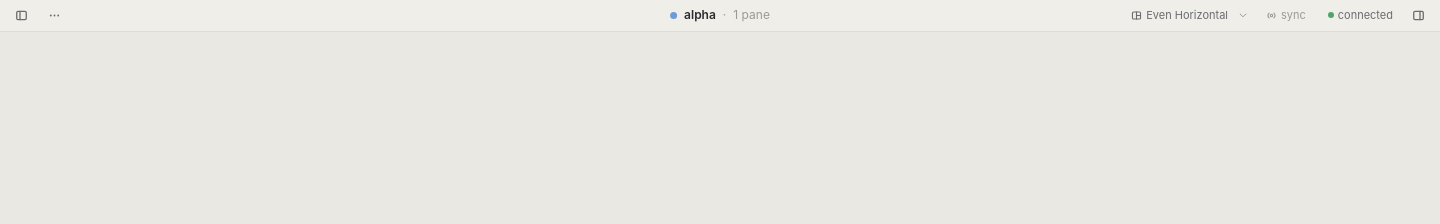
Test: layout dropdown dismissal (§H15) › closes on a mousedown outside it
Step 1. Click the button with test id "layout-menu-toggle" → point(1243, 16), box left=1234, top=8, right=1252, bottom=24
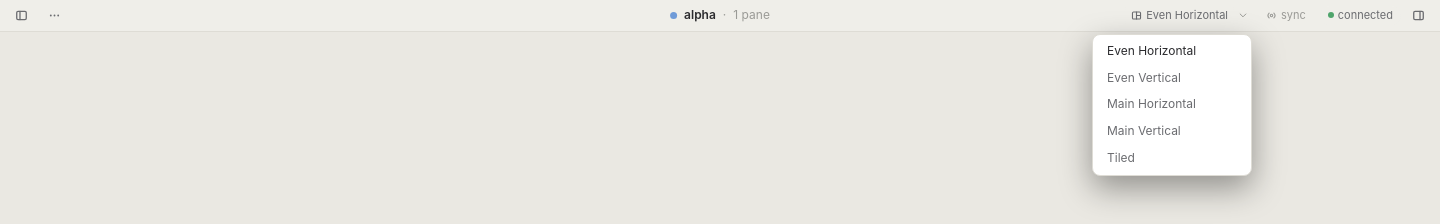
Check: the menu with test id "layout-menu" is shown, box left=1092, top=34, right=1252, bottom=176
Step 2. Press the mouse on the element with test id "top-bar-identity" → point(720, 16), box left=670, top=7, right=770, bottom=24
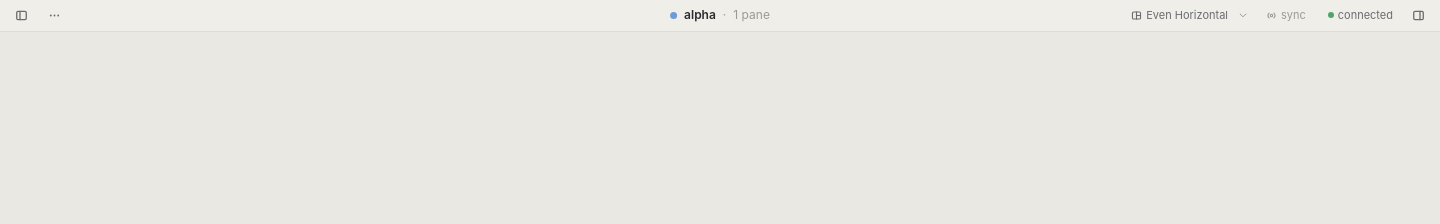
Check: the menu with test id "layout-menu" is gone
